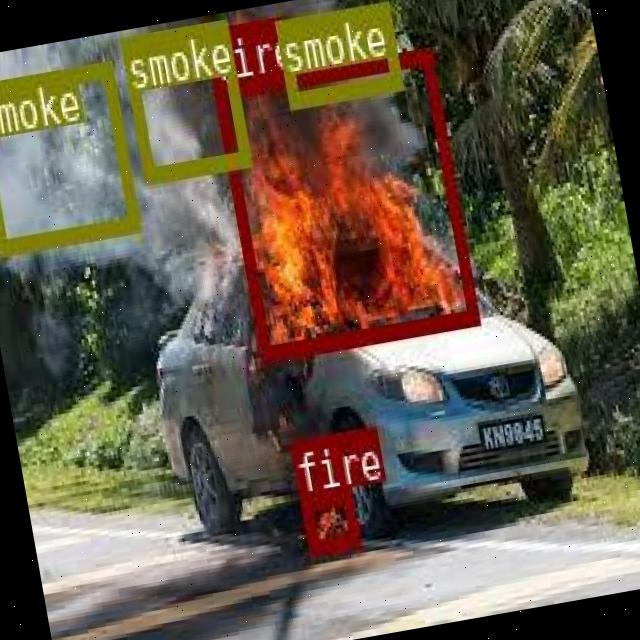fire: (212, 46, 478, 359), (298, 484, 358, 554)
smoke: (0, 58, 138, 252), (118, 18, 250, 180), (272, 0, 399, 105)
